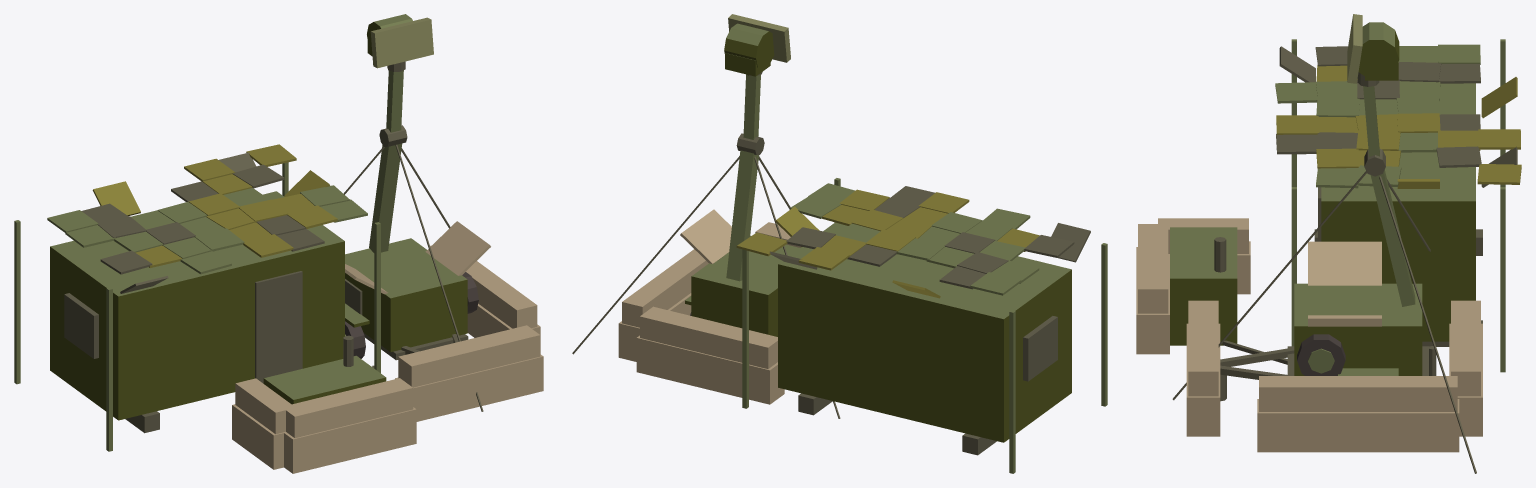
The model's file is SM_Radar_v2_Fortificado_LOD0.fbx.
3 renders of one model, left to right at view 1: azimuth 30°, elevation 25°; view 2: azimuth 150°, elevation 25°; view 3: azimuth 270°, elevation 25°, orthographic. The views are drawn at different scales.
Parts seen in each view (by area): view 1: SM_bloques.radar_v2_LOD0, Antena; view 2: SM_bloques.radar_v2_LOD0, Antena; view 3: SM_bloques.radar_v2_LOD0, Antena.
Boxes of the visible parts, bbox=[...] form: SM_bloques.radar_v2_LOD0: bbox=[14, 70, 543, 473]; Antena: bbox=[367, 14, 433, 71]; SM_bloques.radar_v2_LOD0: bbox=[572, 74, 1107, 473]; Antena: bbox=[724, 14, 790, 76]; SM_bloques.radar_v2_LOD0: bbox=[1136, 39, 1521, 473]; Antena: bbox=[1347, 14, 1399, 86].
Size of the model in its own units: 8.85 by 6.07 by 5.73.
